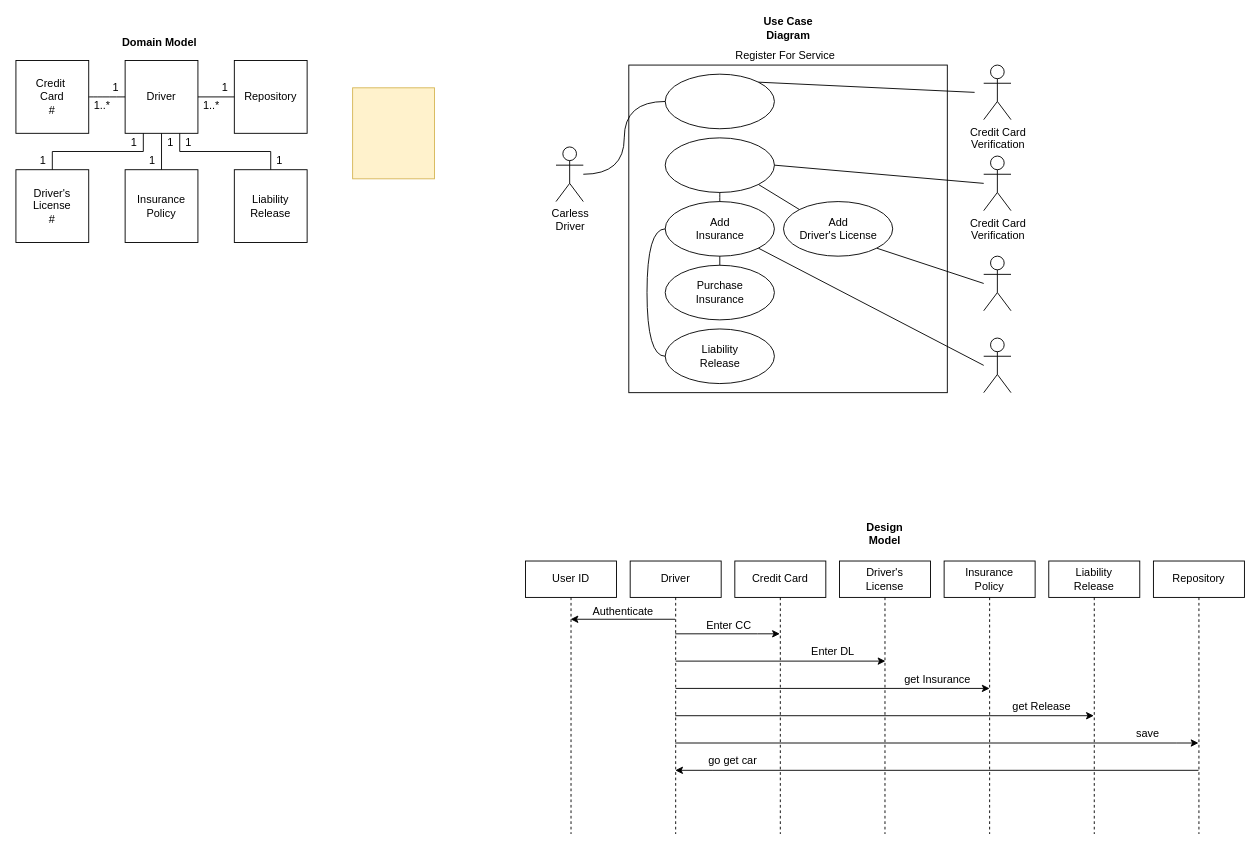
Image size: 1260x850. Some labels were removed from this diagram. The centre of each missing label's shape, as x and y in pixels:
"Add Payment Method" belongs at (719,101).
"Cardinality 1 2 8 1..5 0..8 * 1..* 0..* *" belongs at (393,133).
"DMV" belongs at (997,283).
"Insurance Verifier" belongs at (997,365).
"Setup Account" belongs at (719,164).
